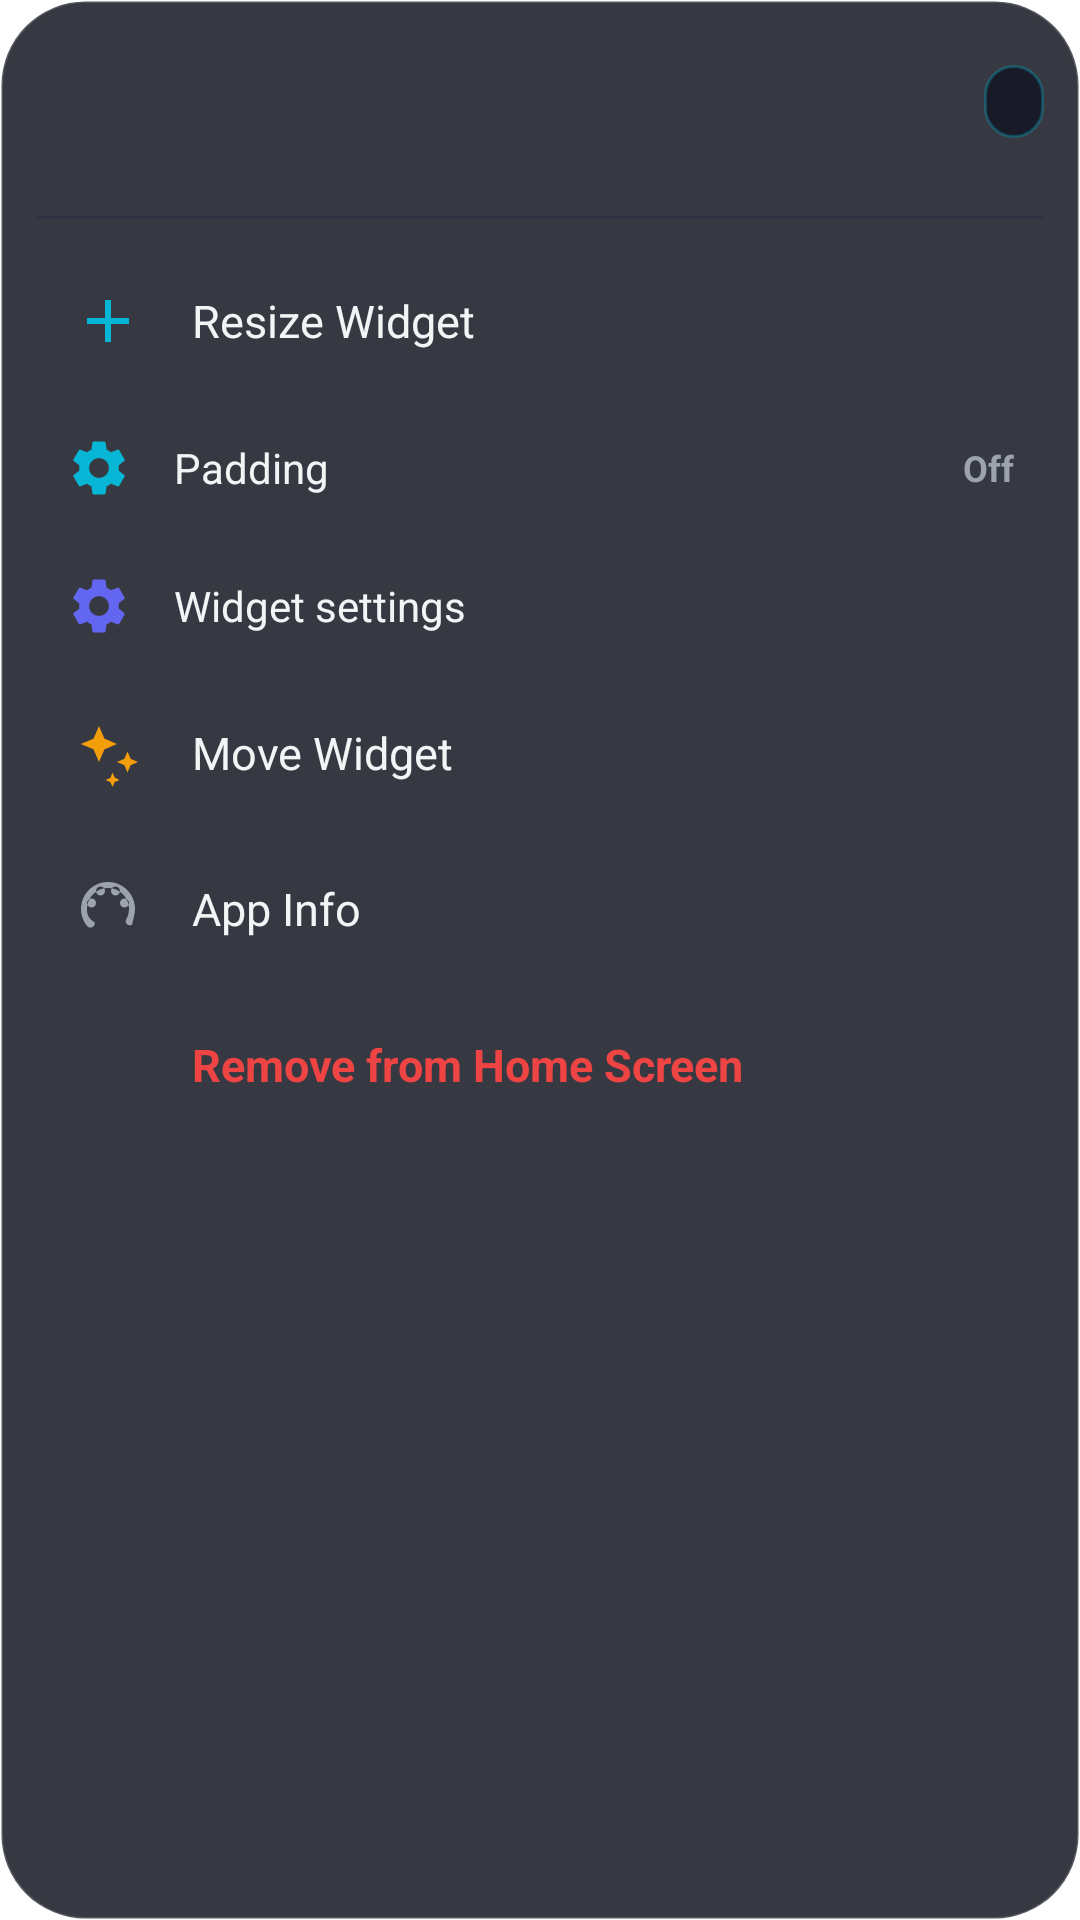

Icons on this 1080x1920 Android screen, each with the point to tap as point (x, y):
plus: point (108, 321)
sparkle ai: point (109, 756)
